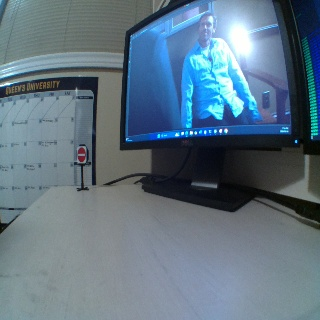sign_noentry: (76, 145, 86, 162)
